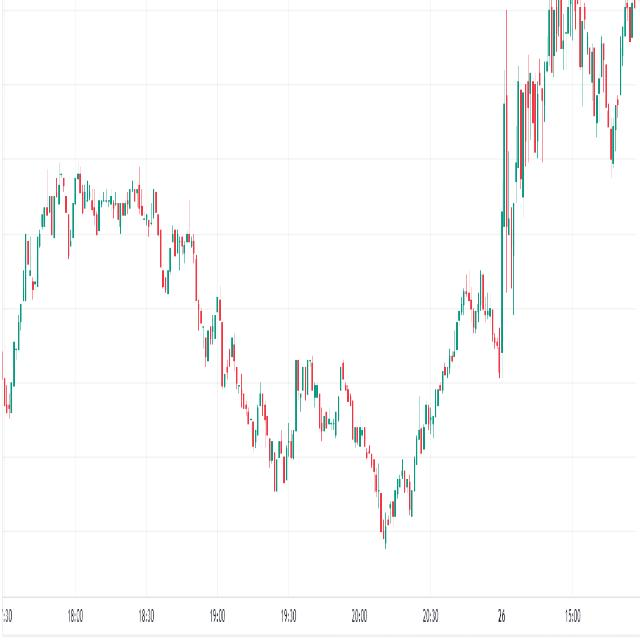Rounding-Top: (5, 154, 244, 382)
